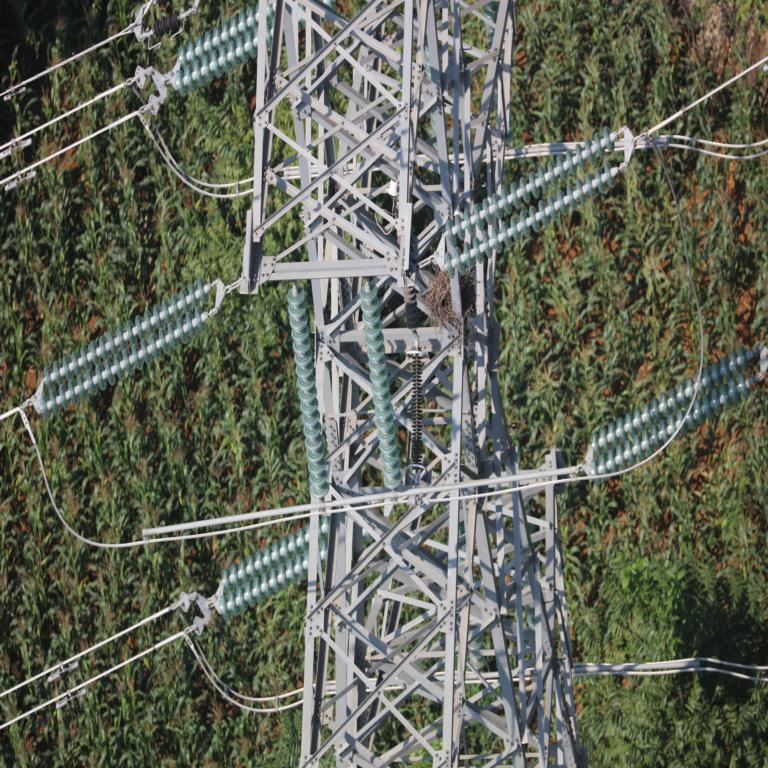nest: (426, 273, 455, 326)
